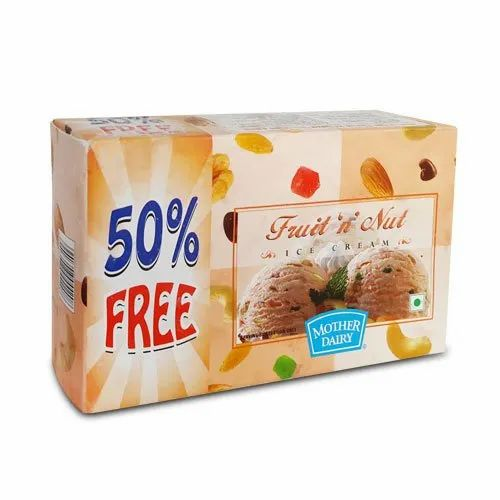Mother_Dairy: (301, 303, 378, 360)
